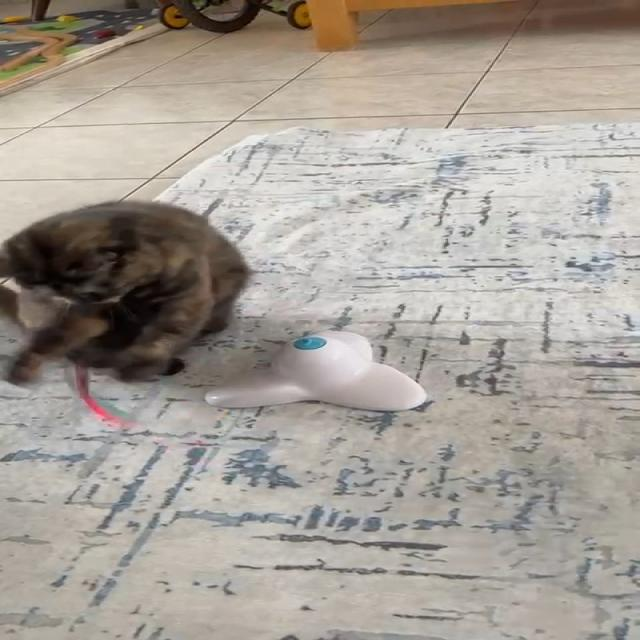authorized: (0, 199, 249, 384)
